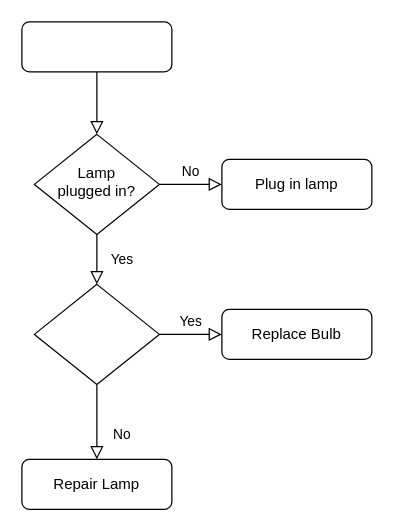
This 394x531 diagram has some shape labels left out. Here are the shapes that lost their labels. From the top down, the box of each, then its label:
(21, 21, 172, 72): Inicio del sistema
(33, 283, 159, 384): Bulb burned out?
